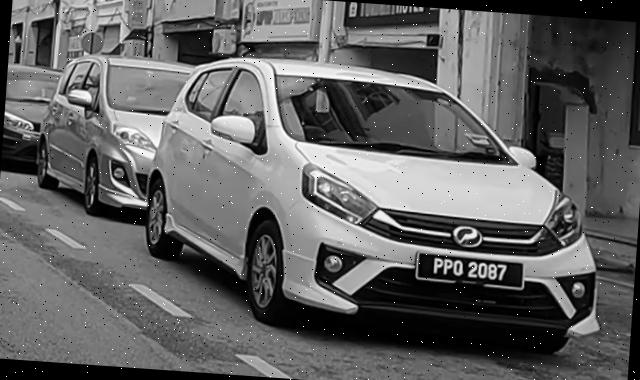License_Plate: (414, 250, 528, 291)
car: (137, 50, 619, 359), (32, 49, 217, 224)
